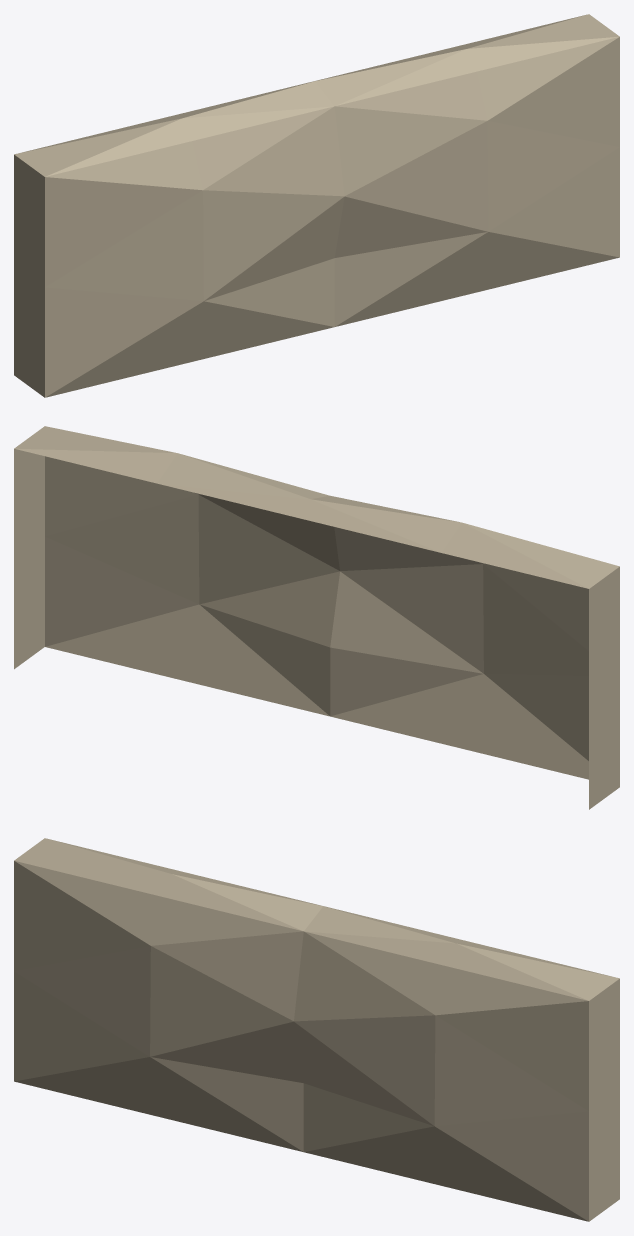
File: малая стена ЛВЛ2.FBX
The picture shows the model from 3 angles, top to bottom: view 1: azimuth 30°, elevation 25°; view 2: azimuth 150°, elevation 25°; view 3: azimuth 330°, elevation 25°; orthographic projection.
Visible parts, largest first — view 1: Box242; view 2: Box242; view 3: Box242.
Boxes of the visible parts, <box> form: Box242: <box>14,14,619,397</box>; Box242: <box>14,426,619,809</box>; Box242: <box>14,838,619,1221</box>.
Bounding box in the file's own units: 363 × 142 × 46.31.
